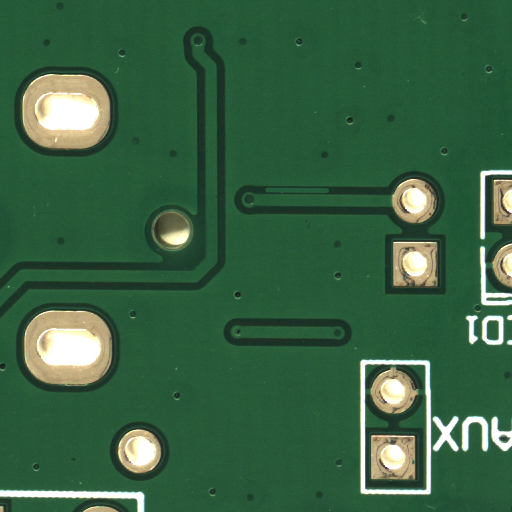Spurious_copper: (297, 189, 366, 199)
